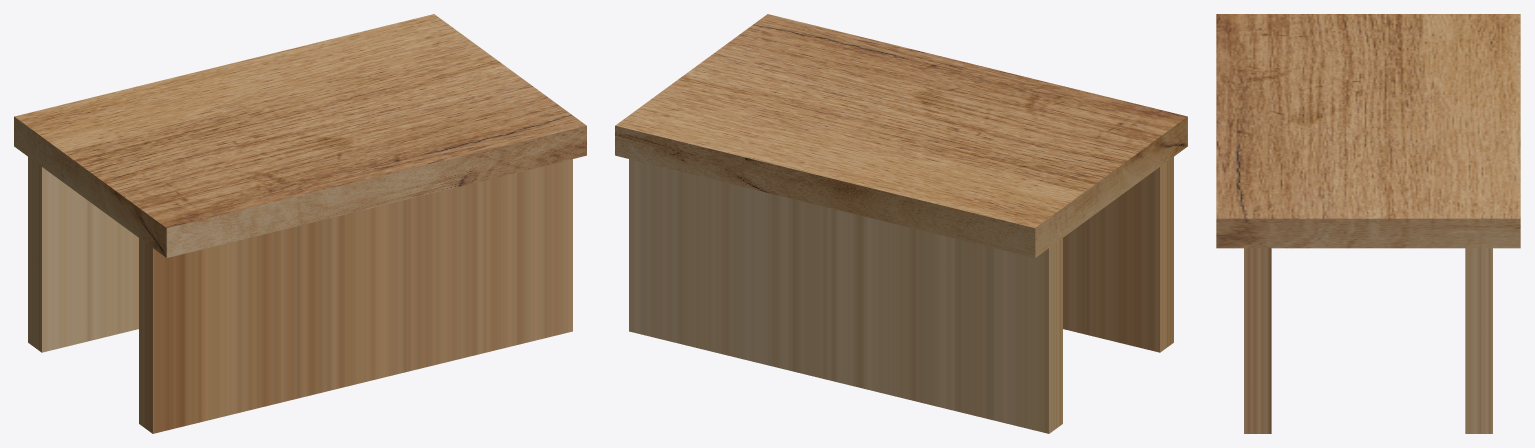
The model's file is table-wooden-low7.glb.
3 renders of one model, left to right at view 1: azimuth 30°, elevation 25°; view 2: azimuth 150°, elevation 25°; view 3: azimuth 270°, elevation 25°, orthographic.
Parts seen in each view (by area): view 1: Cube; view 2: Cube; view 3: Cube.
Boxes of the visible parts, left/top/right/bottom form: Cube: left=14, top=14, right=586, bottom=433; Cube: left=615, top=14, right=1187, bottom=433; Cube: left=1216, top=14, right=1520, bottom=433.
Bounding box in the file's own units: 2.35 × 1.16 × 1.48.
Materials: 1 (1 with a texture image).
